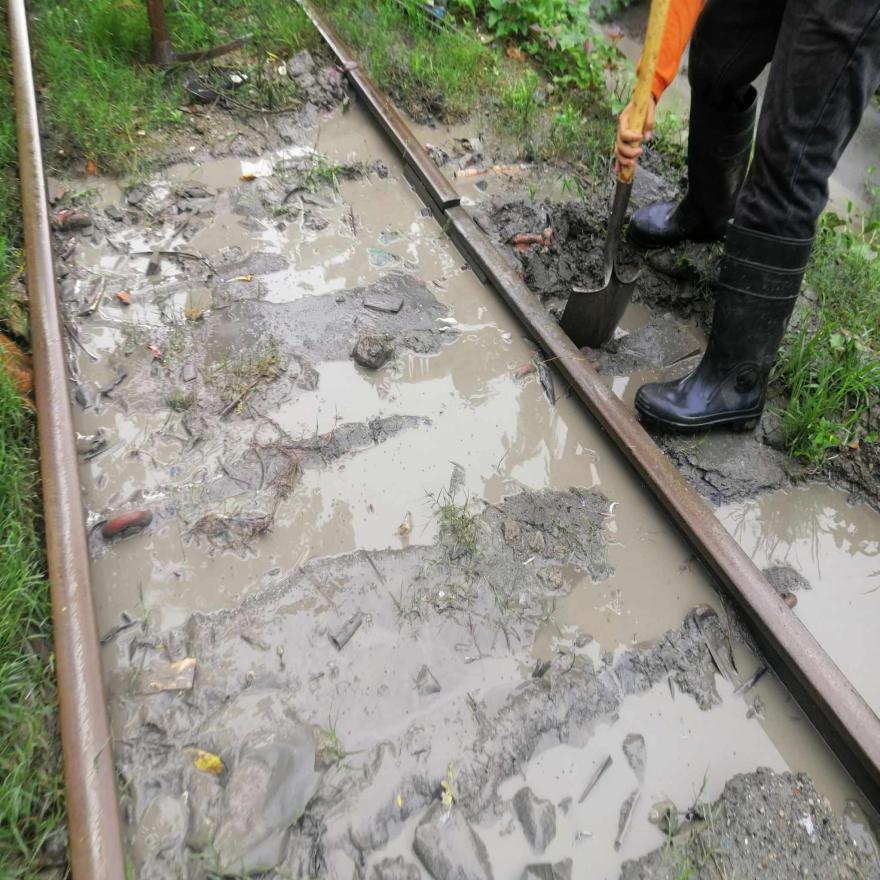railway-gap: (423, 164, 480, 247)
